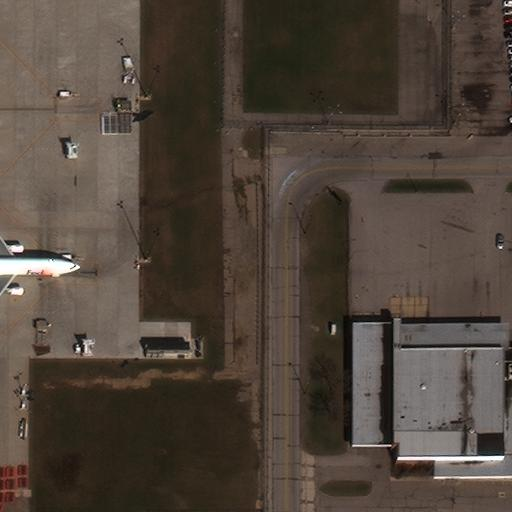Large Civil Transport: (0, 217, 80, 313)
